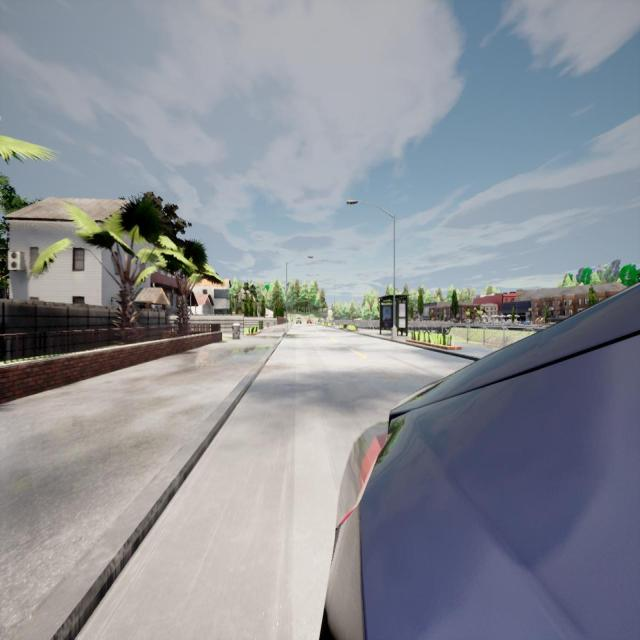Vehicle: (321, 282, 640, 640), (294, 316, 302, 325), (307, 316, 313, 325)
